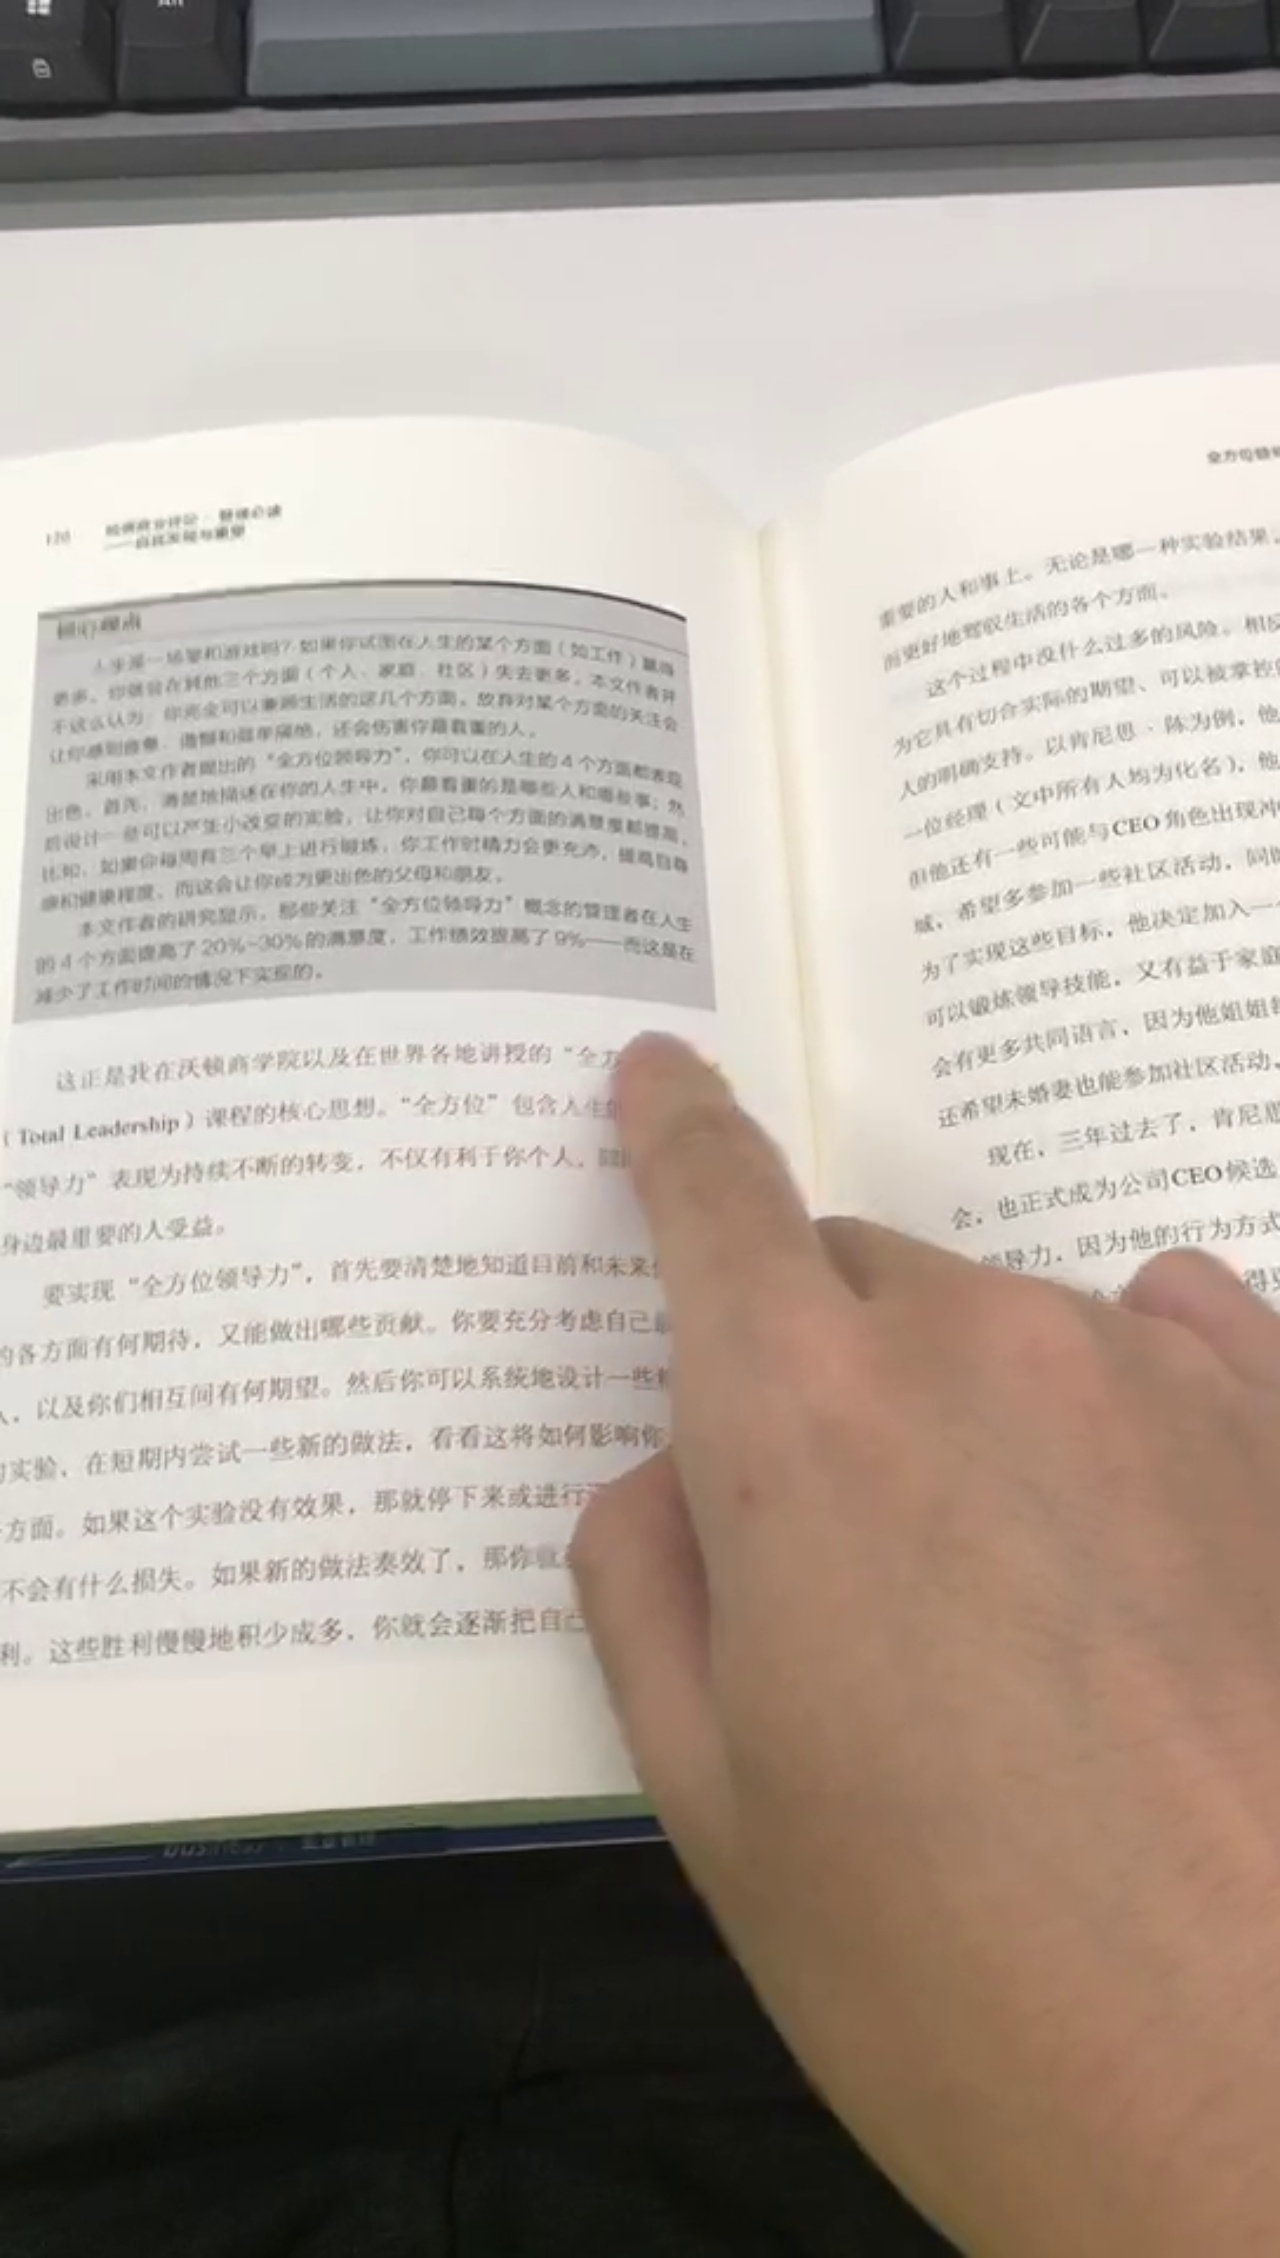finger2: (627, 1030, 711, 1079)
